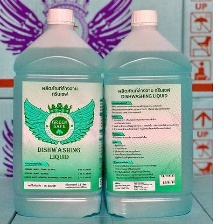cleaning_solution: (9, 6, 110, 219), (99, 6, 197, 221)
